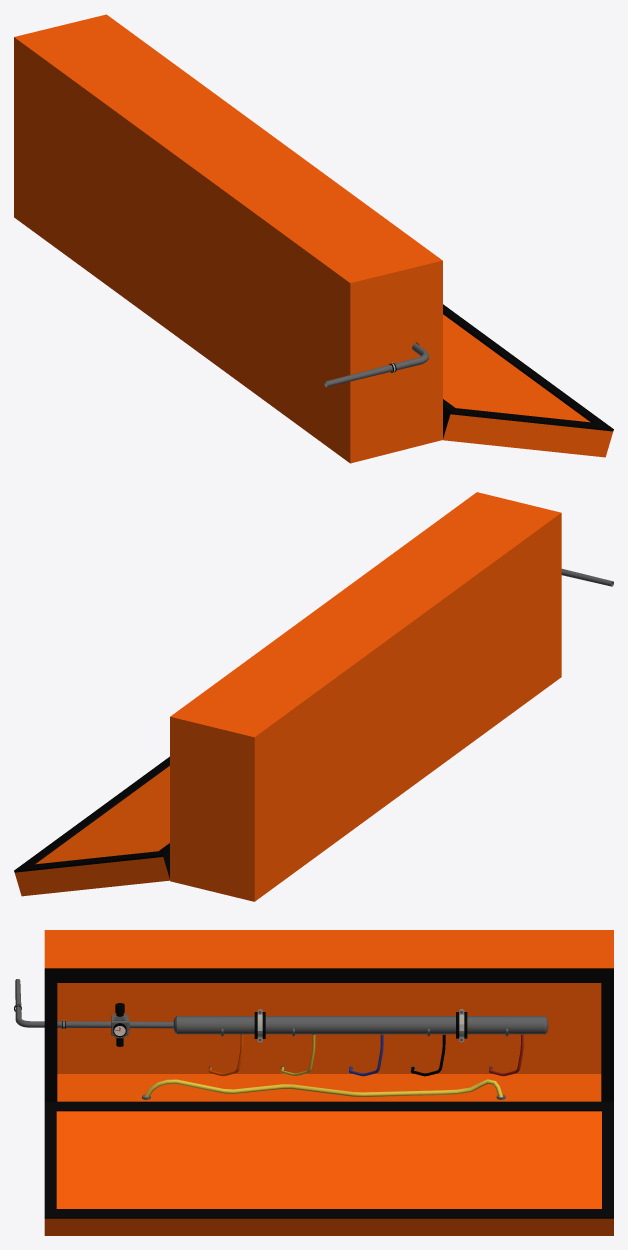
The model's file is tüpdeposufinal.fbx.
The picture shows the model from 3 angles, top to bottom: view 1: azimuth 30°, elevation 25°; view 2: azimuth 150°, elevation 25°; view 3: azimuth 270°, elevation 25°; orthographic projection. The views are drawn at different scales.
Parts seen in each view (by area): view 1: Cylinder.001; view 2: Cylinder.001; view 3: Cylinder.001.
Boxes of the visible parts, x1=… form: Cylinder.001: x1=14, y1=14, x2=613, y2=463; Cylinder.001: x1=14, y1=492, x2=613, y2=901; Cylinder.001: x1=14, y1=930, x2=613, y2=1235.
Bounding box in the file's own units: 2504 × 1863 × 5057.
